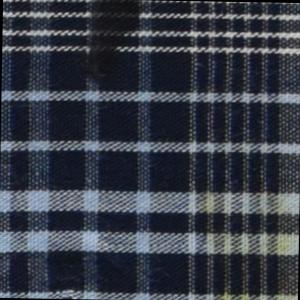Stain: (191, 180, 300, 300), (79, 1, 142, 87)
